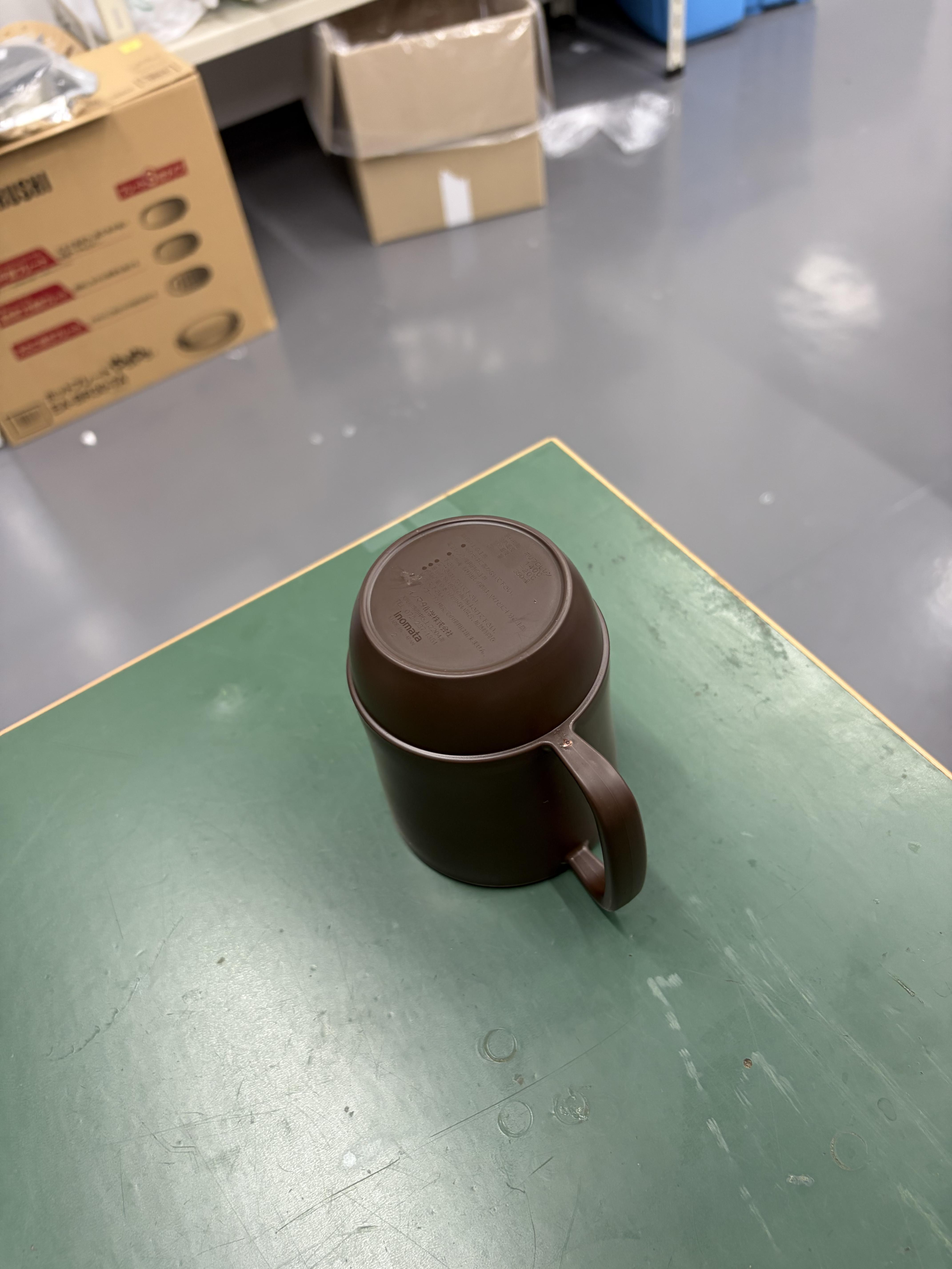mug-real100-3d100: (347, 516, 646, 911)
